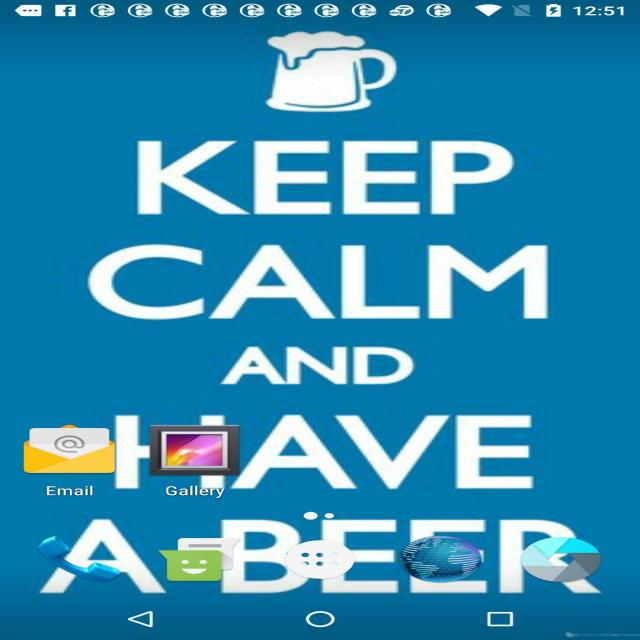button: (511, 515, 633, 600), (114, 400, 230, 472), (46, 520, 148, 600), (409, 498, 484, 591), (31, 428, 123, 491), (170, 519, 238, 603), (289, 536, 366, 605)
icon: (248, 46, 513, 94), (56, 528, 153, 601), (135, 405, 228, 471), (293, 543, 405, 594), (42, 423, 121, 495), (164, 521, 244, 588), (402, 533, 473, 596), (528, 534, 604, 586)
image: (7, 20, 640, 611)
text: (83, 512, 640, 602), (114, 142, 592, 195), (83, 253, 640, 276), (255, 330, 498, 380), (251, 423, 370, 493)
